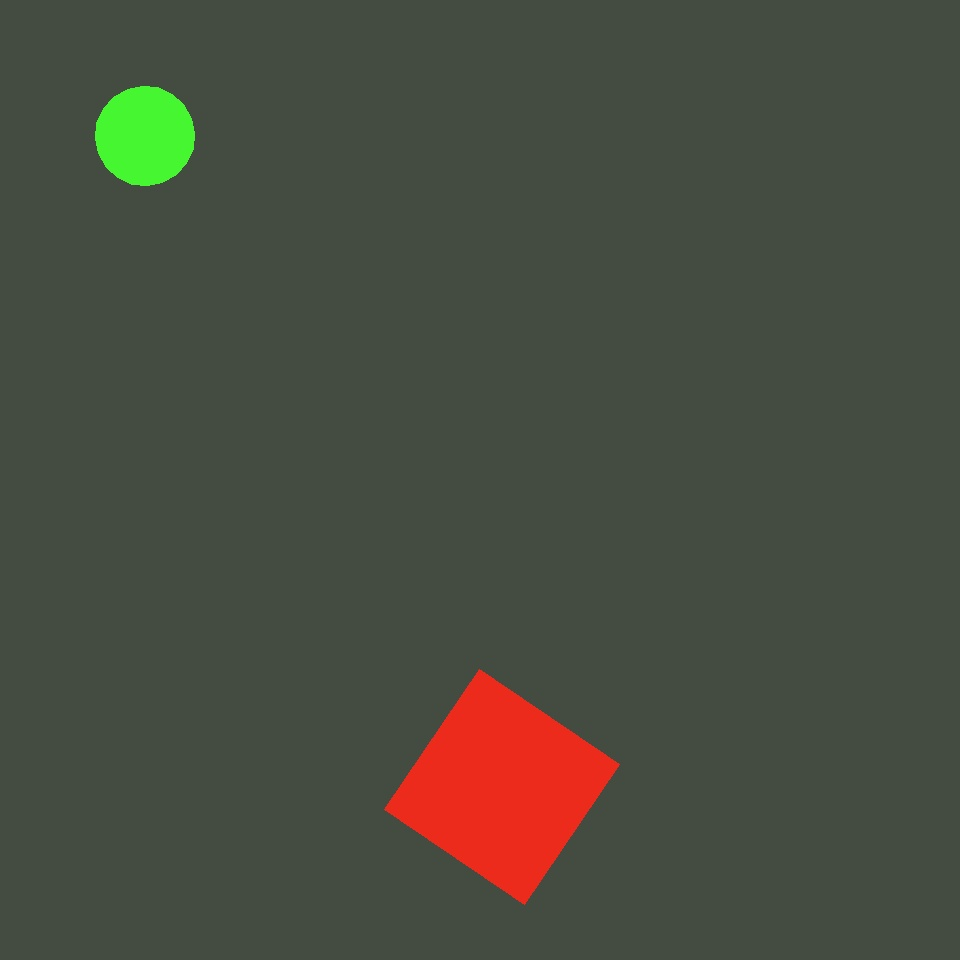square: (385, 670, 620, 905)
triangle: (96, 86, 194, 186)
